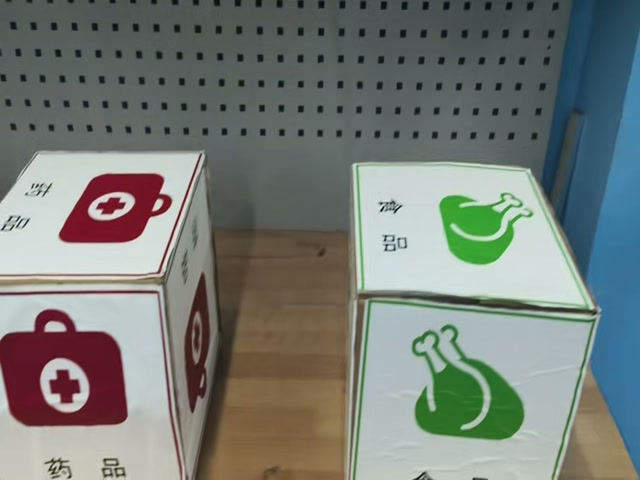Cube_food: (344, 163, 590, 312)
Cube_medicine: (1, 152, 212, 297)
